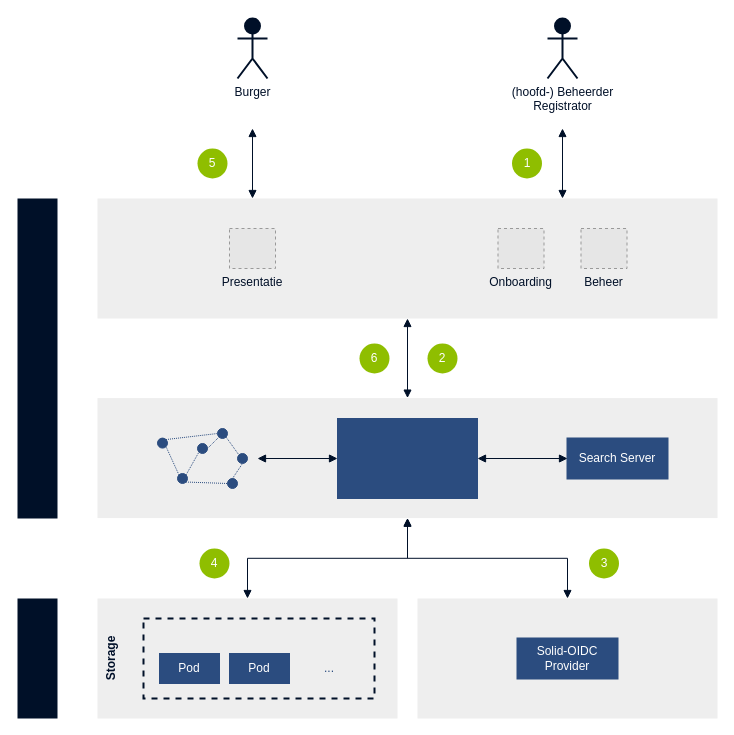
This 734x735 diagram has some shape labels left out. Grey dashed boxes stand in for pictures. The box of each missing label's shape, as (x1, y1, x2, y2) in pixels:
Back-end: (97, 398, 717, 518)
Digita Connect: (336, 418, 478, 498)
Front-end: (97, 198, 717, 318)
Identity: (417, 598, 717, 718)
Netwerk Digitaal Erfgoed: (17, 198, 57, 518)
Pod Server: (142, 617, 375, 699)
Solid: (17, 598, 57, 718)
